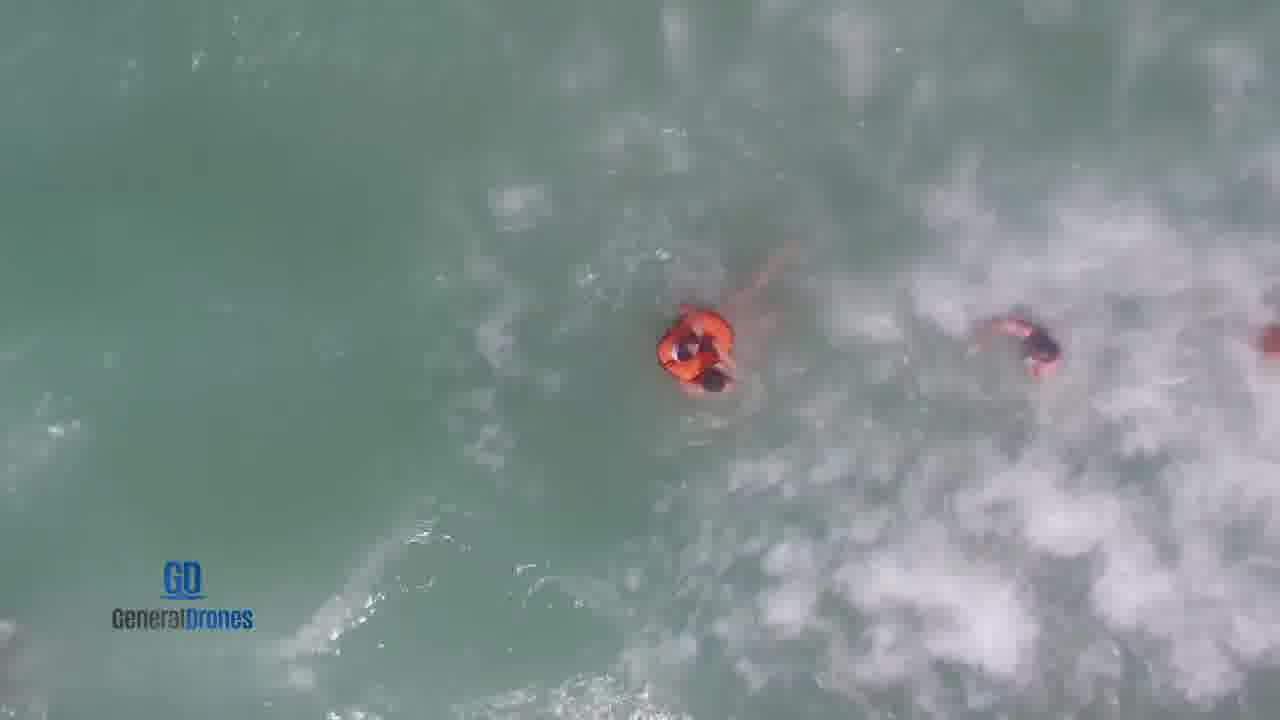human: (669, 280, 773, 398), (982, 295, 1071, 382)
